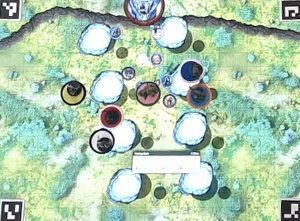blue: (180, 60, 203, 83)
light_blue_orange: (188, 84, 211, 107)
lime_green_violet: (61, 81, 84, 104)
pink_green: (137, 83, 160, 106)
red: (100, 105, 123, 128)
white: (91, 131, 114, 154)
